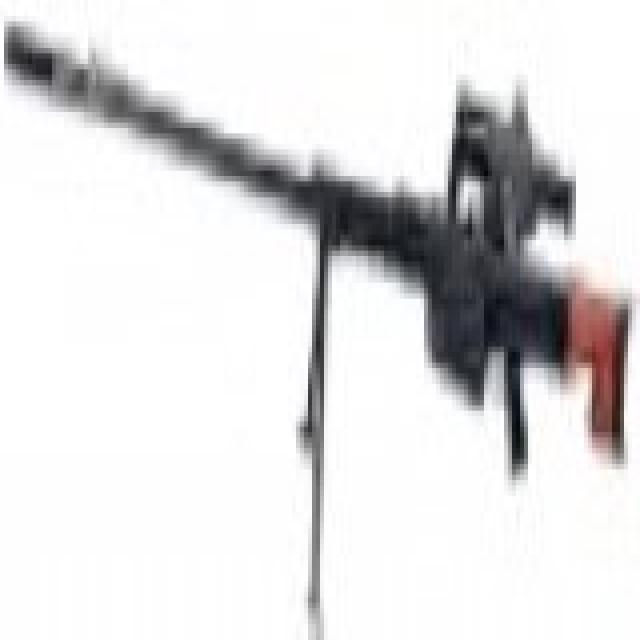Gun: (4, 0, 628, 554)
